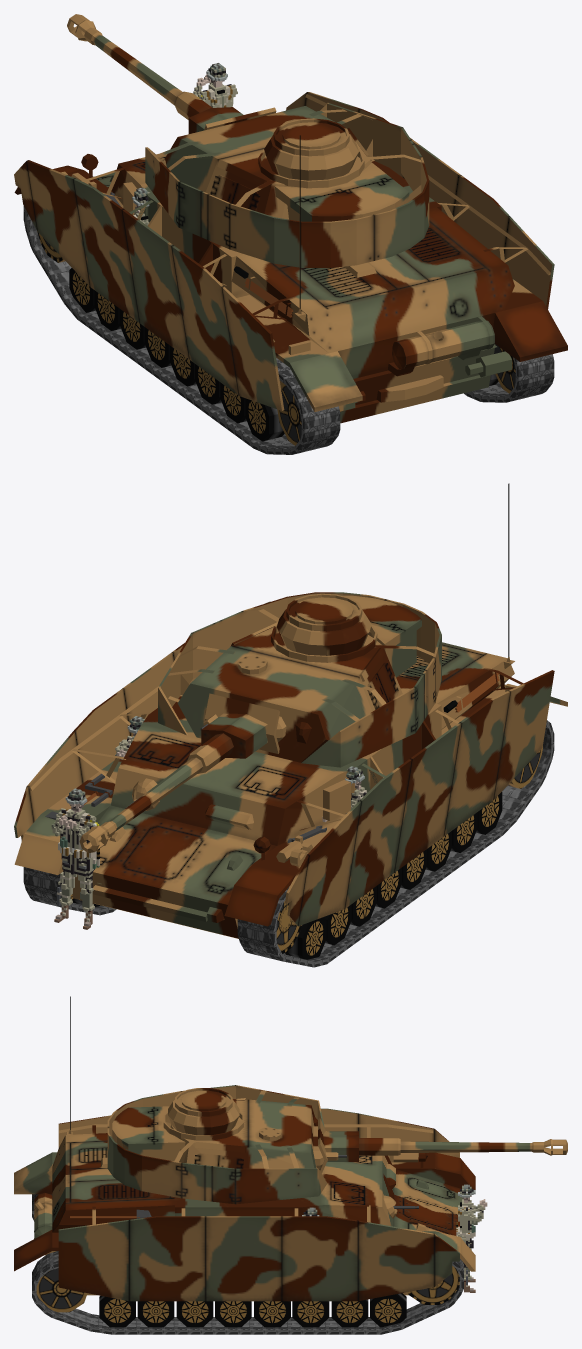
The model's file is panzer_iv_base.glb.
The picture shows the model from 3 angles, top to bottom: view 1: azimuth 30°, elevation 25°; view 2: azimuth 150°, elevation 25°; view 3: azimuth 270°, elevation 25°; orthographic projection. The views are drawn at different scales.
Parts seen in each view (by area): view 1: 00_chassis_panzer_iv_chassis.mesh, 03_turret_panzer_iv_turret.mesh, 08_track_panzer_iv_track_1.mesh, 05_track_panzer_iv_track_1.mesh, weapon_turret_0_panzer_iv_cannon.mesh, crew_soldier_SLOT_02_GUNNER, 10_track_panzer_iv_track_3.mesh; view 2: 00_chassis_panzer_iv_chassis.mesh, 03_turret_panzer_iv_turret.mesh, 08_track_panzer_iv_track_1.mesh, crew_soldier_SLOT_02_GUNNER, weapon_turret_0_panzer_iv_cannon.mesh, 05_track_panzer_iv_track_1.mesh, 09_track_panzer_iv_track_2.mesh; view 3: 00_chassis_panzer_iv_chassis.mesh, 03_turret_panzer_iv_turret.mesh, 05_track_panzer_iv_track_1.mesh, weapon_turret_0_panzer_iv_cannon.mesh, crew_soldier_SLOT_02_GUNNER, 07_track_panzer_iv_track_3.mesh, 06_track_panzer_iv_track_2.mesh.
Boxes of the visible parts, x1,y1,x2,y2 form: 00_chassis_panzer_iv_chassis.mesh: [14, 92, 567, 423]; 03_turret_panzer_iv_turret.mesh: [145, 91, 429, 267]; 08_track_panzer_iv_track_1.mesh: [23, 206, 340, 454]; 05_track_panzer_iv_track_1.mesh: [464, 354, 554, 402]; weapon_turret_0_panzer_iv_cannon.mesh: [67, 14, 182, 105]; crew_soldier_SLOT_02_GUNNER: [193, 63, 237, 107]; 10_track_panzer_iv_track_3.mesh: [277, 382, 301, 445]; 00_chassis_panzer_iv_chassis.mesh: [14, 483, 567, 938]; 03_turret_panzer_iv_turret.mesh: [158, 592, 441, 773]; 08_track_panzer_iv_track_1.mesh: [237, 720, 554, 967]; crew_soldier_SLOT_02_GUNNER: [51, 788, 101, 929]; weapon_turret_0_panzer_iv_cannon.mesh: [79, 757, 203, 853]; 05_track_panzer_iv_track_1.mesh: [23, 867, 116, 915]; 09_track_panzer_iv_track_2.mesh: [276, 900, 301, 953]; 00_chassis_panzer_iv_chassis.mesh: [14, 996, 475, 1301]; 03_turret_panzer_iv_turret.mesh: [107, 1085, 400, 1204]; 05_track_panzer_iv_track_1.mesh: [32, 1251, 463, 1334]; weapon_turret_0_panzer_iv_cannon.mesh: [400, 1139, 567, 1155]; crew_soldier_SLOT_02_GUNNER: [456, 1184, 487, 1292]; 07_track_panzer_iv_track_3.mesh: [36, 1268, 87, 1312]; 06_track_panzer_iv_track_2.mesh: [408, 1266, 459, 1304].
Size of the model in its own units: 4.12 by 4.44 by 8.86.
Materials: 41 (5 with a texture image).
